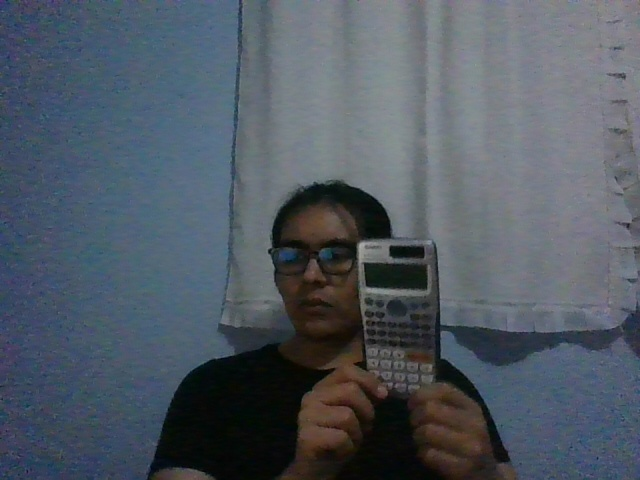calculadora: (355, 237, 440, 400)
